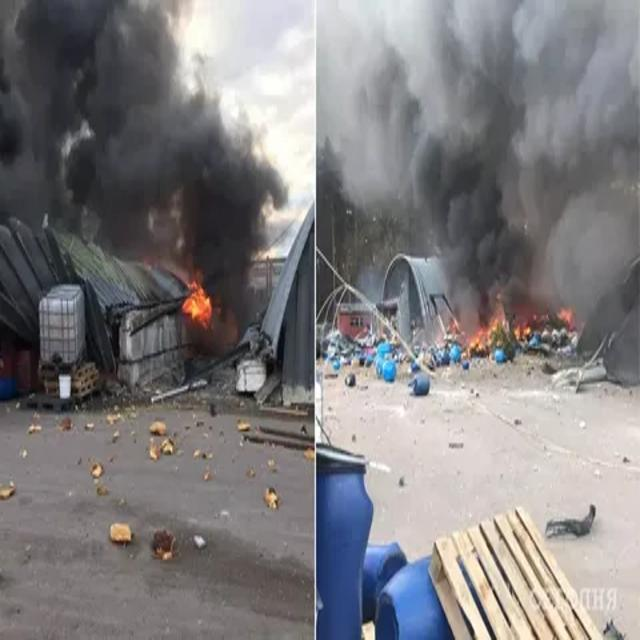smoke: (318, 3, 640, 342), (0, 0, 287, 338)
